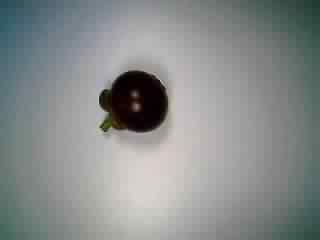mangosteen: (89, 68, 171, 141)
